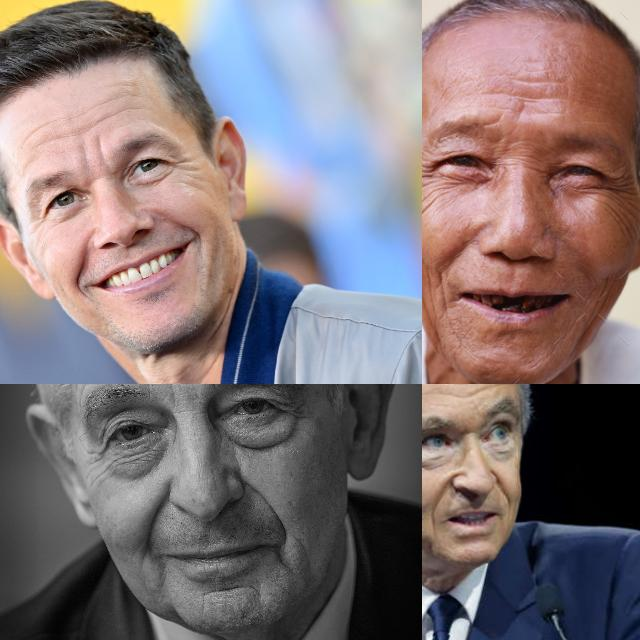chin: (203, 579, 254, 599)
crows_feet: (276, 393, 310, 435), (82, 446, 116, 476), (602, 172, 630, 204), (168, 154, 194, 184), (28, 216, 48, 238), (422, 154, 435, 187)
forehead: (509, 74, 543, 118), (91, 96, 139, 122), (423, 384, 510, 397), (30, 120, 72, 144)
frown_line: (505, 140, 541, 174), (82, 138, 106, 170), (162, 384, 185, 414)
gummy_smile: (253, 481, 291, 531), (144, 491, 172, 544), (428, 269, 452, 315), (154, 210, 198, 232), (492, 468, 514, 512), (431, 473, 451, 515), (72, 252, 88, 296)
